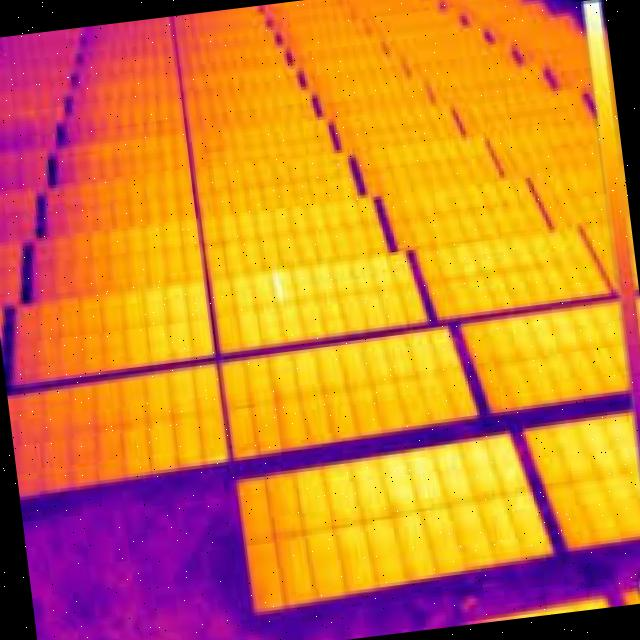Hotspot: (270, 269, 286, 308)
